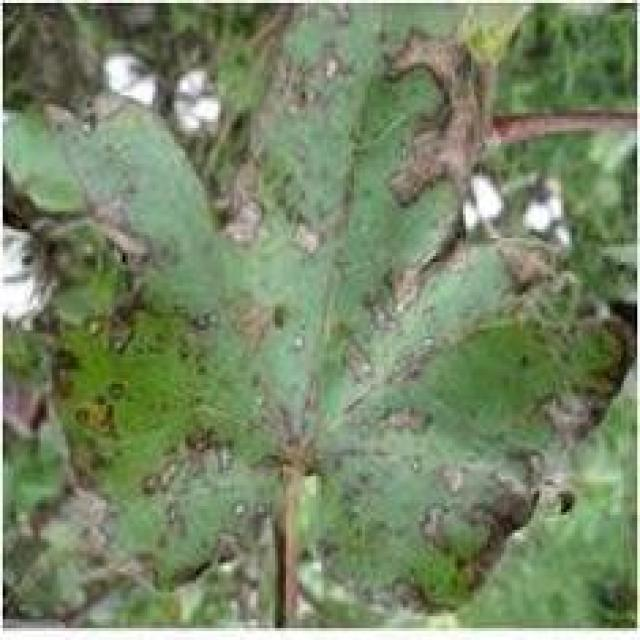Bacterial Blight: (163, 192, 453, 484)
